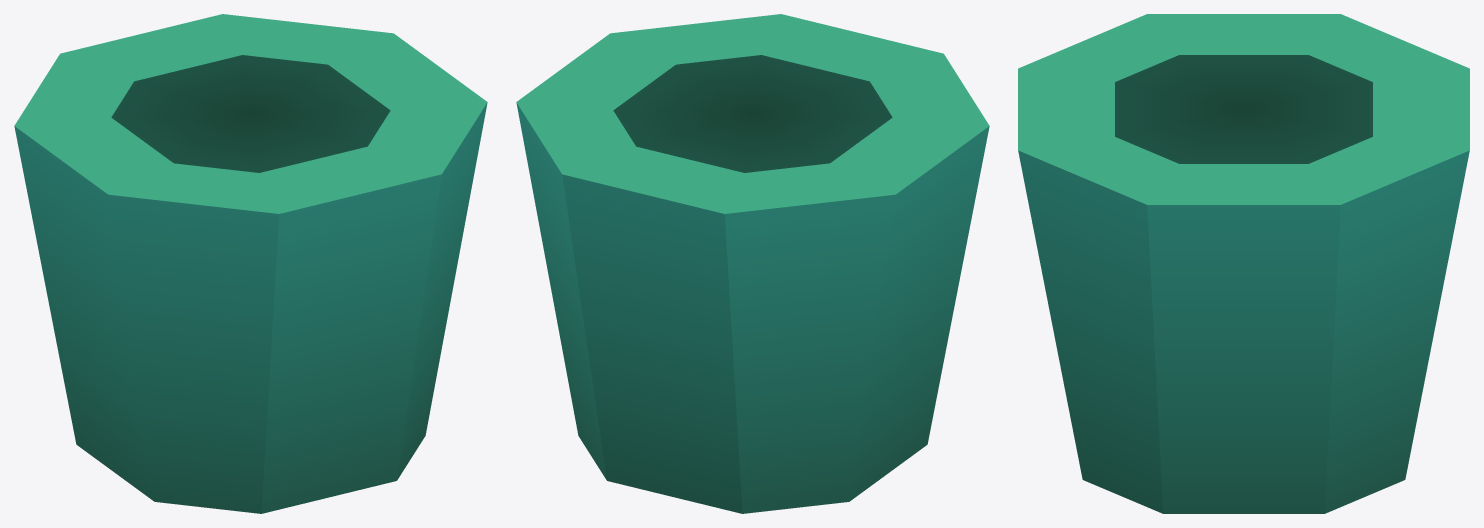
The model's file is hgss-prop-interieur-022.glb.
The picture shows the model from 3 angles, left to right: view 1: azimuth 30°, elevation 25°; view 2: azimuth 150°, elevation 25°; view 3: azimuth 270°, elevation 25°; orthographic projection. The views are drawn at different scales.
Visible parts, largest first — view 1: dustbox01; view 2: dustbox01; view 3: dustbox01.
Part boxes in pixels (bbox=[...]): dustbox01: bbox=[14, 14, 487, 513]; dustbox01: bbox=[516, 14, 989, 513]; dustbox01: bbox=[1018, 14, 1469, 513].
Size of the model in its own units: 0.875 by 0.7188 by 0.875.
Materials: 1 (1 with a texture image).
